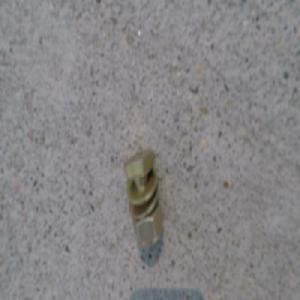BoltNutSet: (122, 145, 162, 243)
